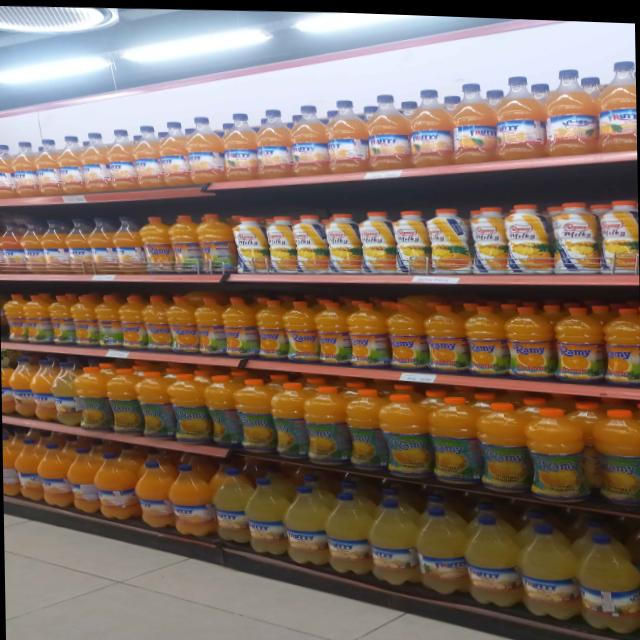ramy_plastique: (573, 526, 640, 628), (516, 517, 580, 616), (523, 403, 588, 499), (462, 509, 522, 605), (414, 502, 473, 595), (543, 63, 599, 155), (474, 399, 530, 490), (322, 485, 376, 574), (366, 493, 420, 582), (426, 393, 479, 482), (591, 404, 640, 500), (493, 70, 545, 157), (378, 390, 430, 476), (282, 479, 334, 564), (448, 76, 498, 163), (408, 81, 457, 166), (342, 384, 389, 470), (243, 472, 292, 554), (364, 87, 412, 170), (548, 196, 601, 270), (302, 382, 349, 465), (552, 302, 603, 377), (168, 461, 219, 536), (503, 199, 555, 272), (504, 300, 552, 377), (596, 57, 636, 148), (210, 463, 256, 542), (323, 93, 368, 172), (269, 380, 312, 462), (92, 449, 140, 520), (133, 455, 179, 528), (231, 374, 273, 452), (426, 203, 473, 272), (200, 372, 242, 449), (165, 372, 208, 445), (466, 202, 512, 270), (462, 301, 507, 369), (601, 302, 640, 380), (598, 195, 638, 271), (288, 103, 329, 176), (253, 106, 294, 178), (422, 302, 466, 369), (184, 113, 226, 183), (391, 205, 434, 272), (222, 110, 262, 180), (136, 369, 174, 441), (356, 207, 398, 272), (66, 441, 105, 511), (290, 211, 334, 272), (385, 302, 426, 367), (105, 367, 143, 437), (322, 209, 364, 272), (36, 440, 76, 506), (74, 363, 112, 432), (346, 301, 386, 364), (157, 120, 193, 185), (196, 210, 234, 271), (108, 213, 146, 274), (231, 213, 269, 273), (50, 359, 84, 426), (28, 357, 62, 422), (138, 213, 174, 274), (312, 300, 348, 361), (85, 212, 121, 273), (265, 213, 302, 272), (280, 298, 316, 358), (167, 210, 202, 271), (130, 124, 164, 186), (220, 295, 254, 355), (104, 130, 138, 190), (253, 296, 287, 356), (61, 215, 95, 274), (14, 436, 46, 498), (78, 132, 110, 192), (38, 216, 71, 274), (54, 135, 86, 192), (17, 216, 48, 274), (163, 296, 196, 350), (8, 355, 37, 416), (193, 295, 224, 352), (0, 215, 28, 274), (34, 139, 63, 195), (116, 294, 146, 347), (10, 141, 38, 196), (140, 295, 168, 349), (94, 292, 122, 344), (70, 293, 97, 342), (2, 430, 24, 490), (22, 294, 50, 341), (46, 294, 72, 342), (2, 296, 28, 340), (0, 144, 18, 198), (1, 363, 17, 412)
